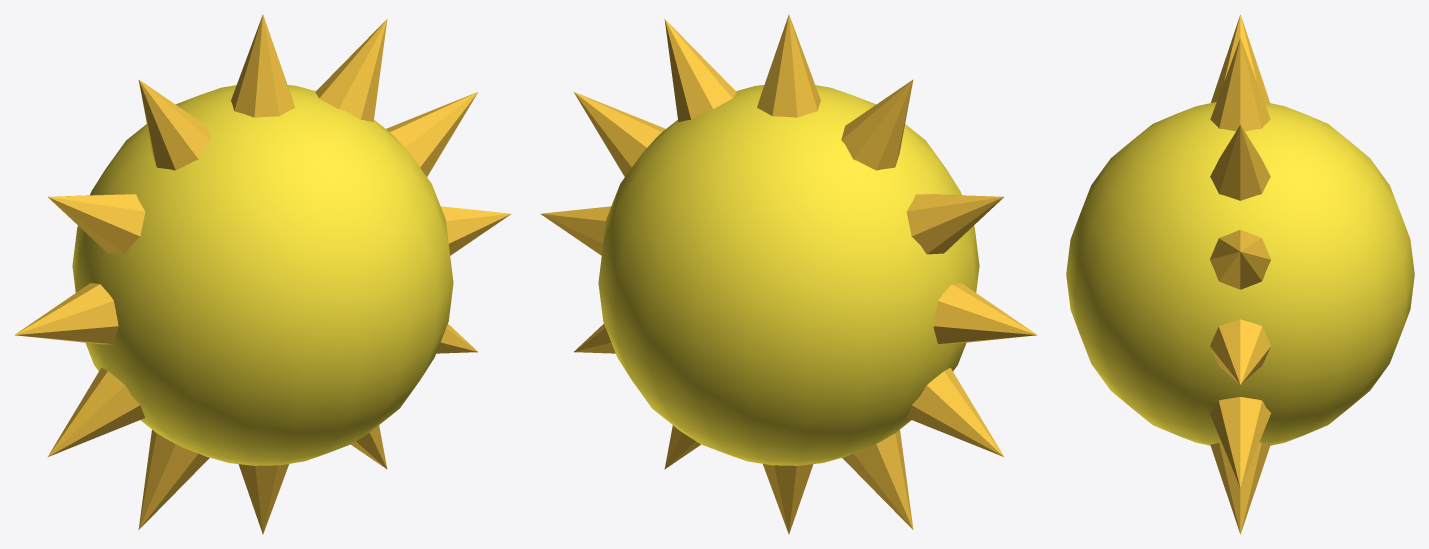
The model's file is gunes.glb.
3 renders of one model, left to right at view 1: azimuth 30°, elevation 25°; view 2: azimuth 150°, elevation 25°; view 3: azimuth 270°, elevation 25°, orthographic. The views are drawn at different scales.
Parts seen in each view (by area): view 1: Gunes; view 2: Gunes; view 3: Gunes.
Boxes of the visible parts, x1,y1,x2,y2 form: Gunes: (14,14,511,534); Gunes: (540,14,1037,534); Gunes: (1066,14,1414,534).
Size of the model in its own units: 0.95 by 0.95 by 0.6333.
